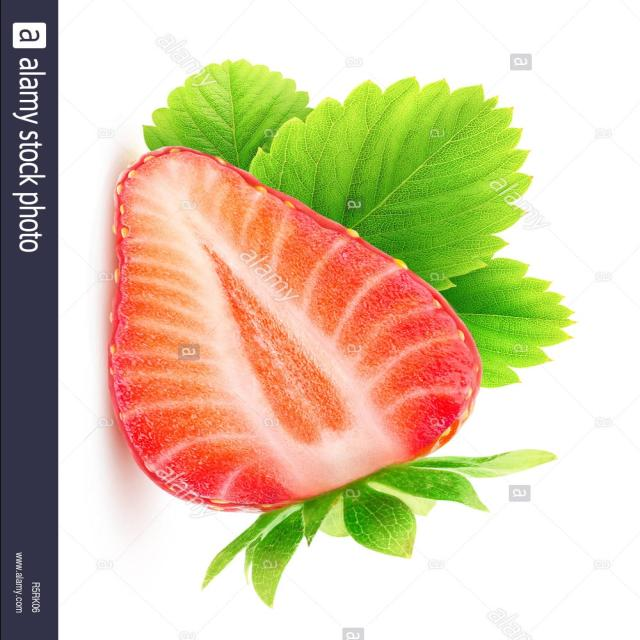strawberry: (101, 134, 538, 585)
